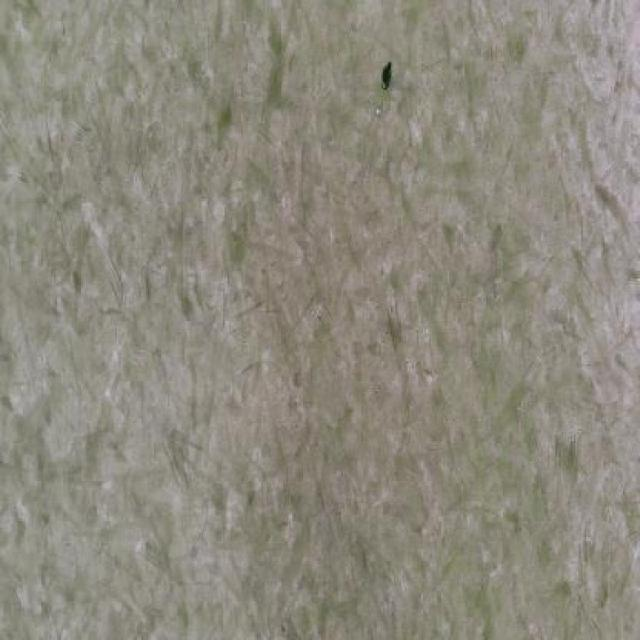Garbage: (380, 60, 391, 88), (376, 108, 378, 113)
